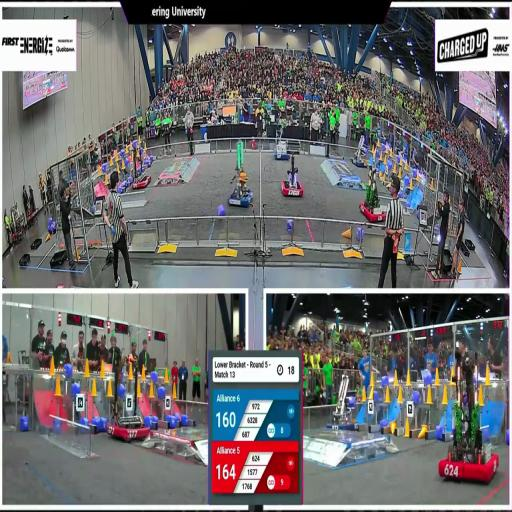robot: (441, 354, 499, 486), (106, 358, 153, 446), (327, 374, 360, 432), (227, 138, 254, 206), (358, 164, 388, 224), (128, 146, 153, 192), (281, 154, 305, 201), (352, 134, 368, 170), (274, 141, 291, 160)
